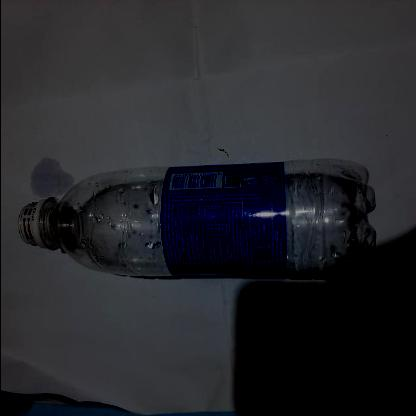Plastic Bottle: (13, 124, 406, 318)
